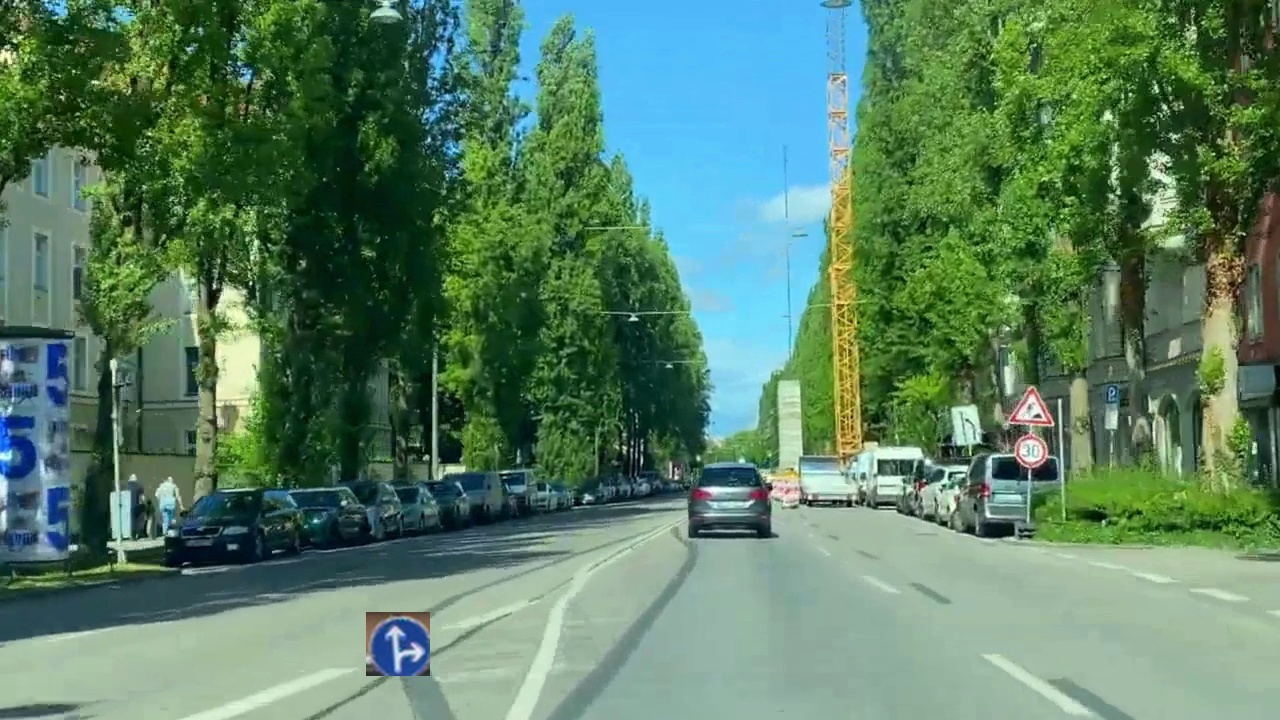Straight/right: (366, 612, 430, 676)
